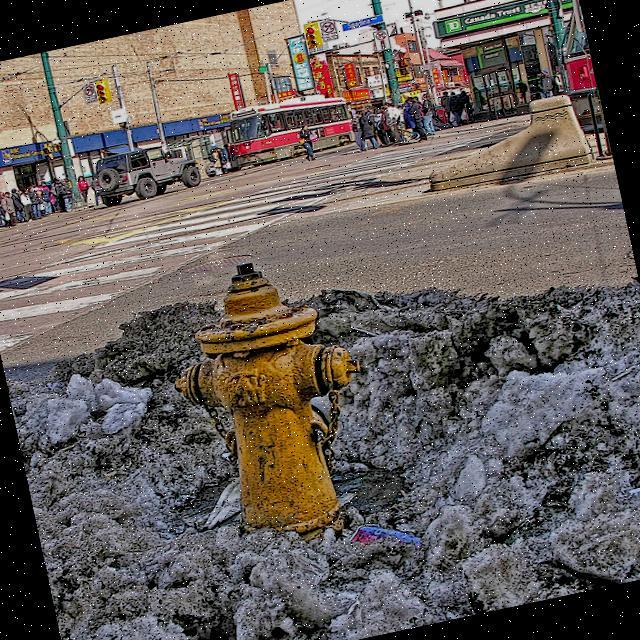fire_hydrant: (147, 242, 390, 553)
